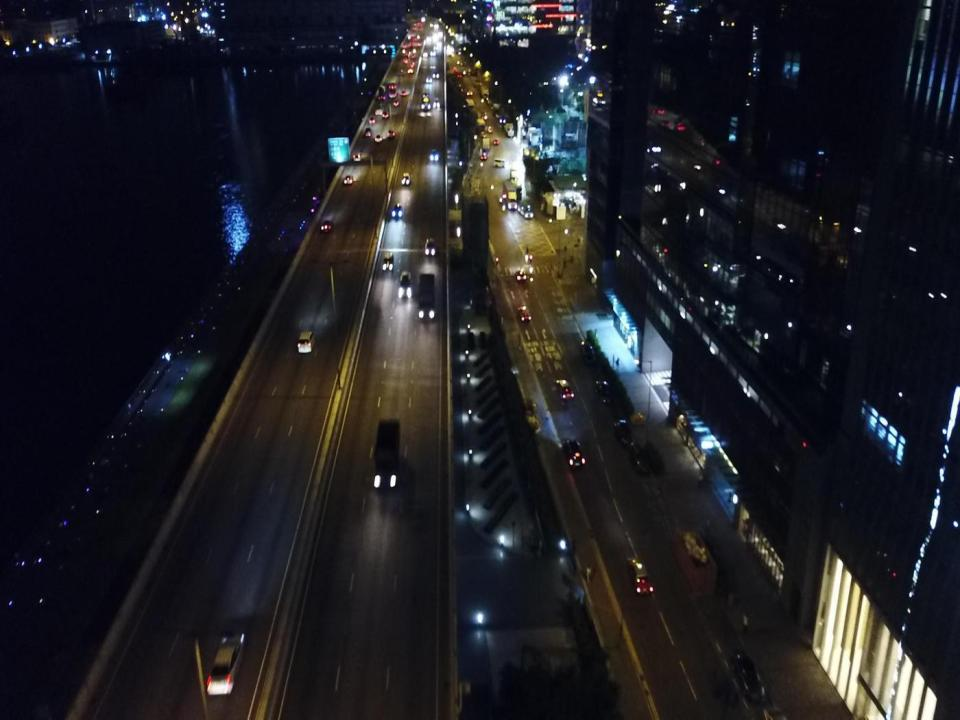bus: (516, 200, 533, 218), (388, 75, 399, 97), (422, 88, 430, 110)
car: (207, 630, 246, 696), (732, 652, 762, 700), (628, 556, 653, 595), (628, 443, 648, 475), (564, 439, 585, 468), (614, 418, 634, 448), (596, 380, 613, 405), (298, 332, 316, 352), (580, 342, 595, 364), (557, 379, 573, 399), (518, 305, 530, 322), (384, 252, 394, 272), (424, 238, 436, 254), (392, 204, 404, 218), (321, 220, 333, 233), (402, 172, 412, 186), (516, 269, 526, 282), (344, 174, 353, 186), (430, 149, 438, 162), (375, 134, 383, 142), (433, 98, 439, 108), (388, 130, 395, 138), (499, 117, 506, 124), (366, 129, 372, 137), (383, 111, 389, 119), (480, 153, 488, 159), (432, 72, 439, 78), (376, 108, 382, 114), (493, 138, 499, 144), (370, 118, 376, 123), (426, 77, 432, 82), (488, 126, 493, 132), (401, 90, 406, 95), (394, 101, 398, 106)
truck: (373, 418, 400, 490), (418, 273, 434, 321), (502, 180, 518, 211), (378, 82, 389, 100), (512, 181, 522, 200), (476, 117, 485, 137), (510, 168, 519, 186), (505, 122, 514, 138), (482, 136, 490, 151)
van: (399, 270, 411, 298), (353, 150, 362, 162), (493, 158, 505, 167)
